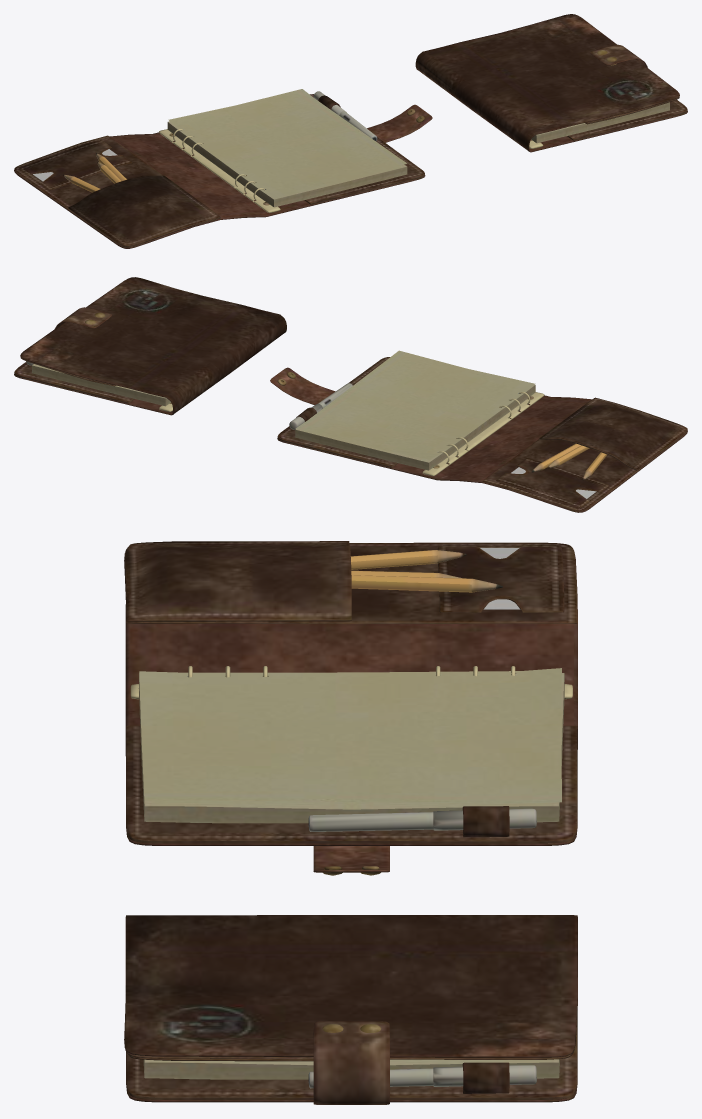
The model's file is binder_notebook.glb.
3 renders of one model, top to bottom at view 1: azimuth 30°, elevation 25°; view 2: azimuth 150°, elevation 25°; view 3: azimuth 270°, elevation 25°, orthographic. The views are drawn at different scales.
Bounding box in the file's own units: 0.584 × 0.0252 × 0.2.
1 material, 1 textured.
